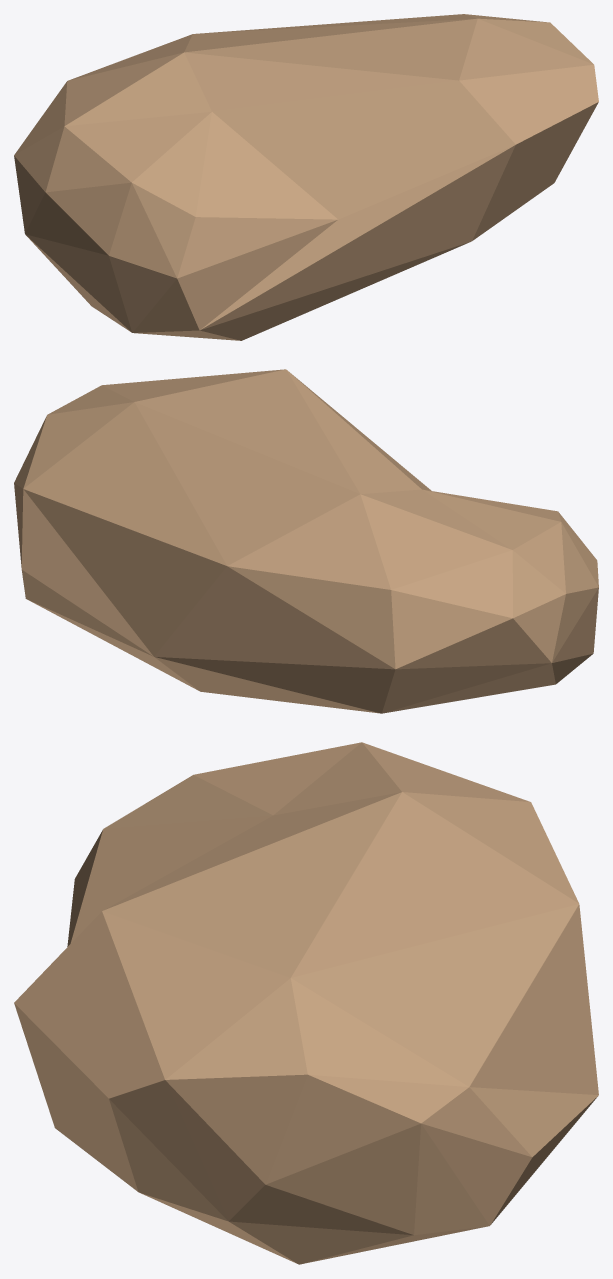
Rendered from Stone_3.fbx.
3 views of the same model, one above another, from view 1: azimuth 30°, elevation 25°; view 2: azimuth 150°, elevation 25°; view 3: azimuth 270°, elevation 25° (orthographic). The views are drawn at different scales.
Parts seen in each view (by area): view 1: Stone_3; view 2: Stone_3; view 3: Stone_3.
Part boxes in pixels (<box>): Stone_3: <box>14,14,598,340</box>; Stone_3: <box>14,369,598,713</box>; Stone_3: <box>14,742,598,1264</box>.
Bounding box in the file's own units: 473 × 189 × 317.
